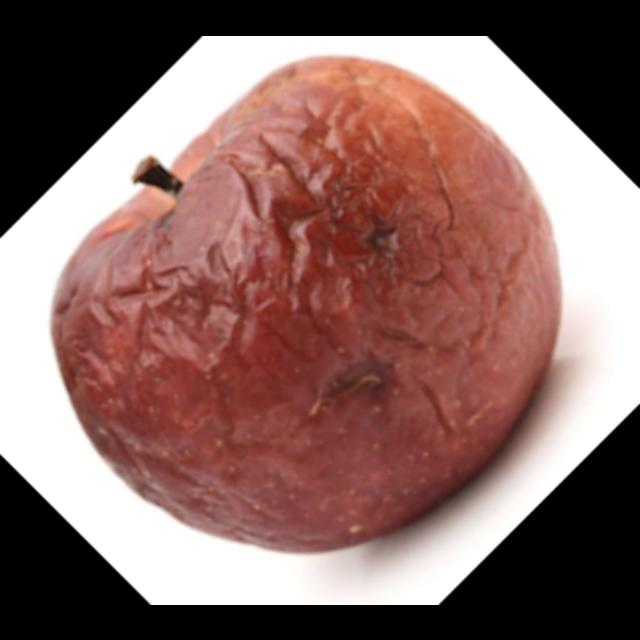Apel Tidak Segar: (47, 52, 566, 556)
